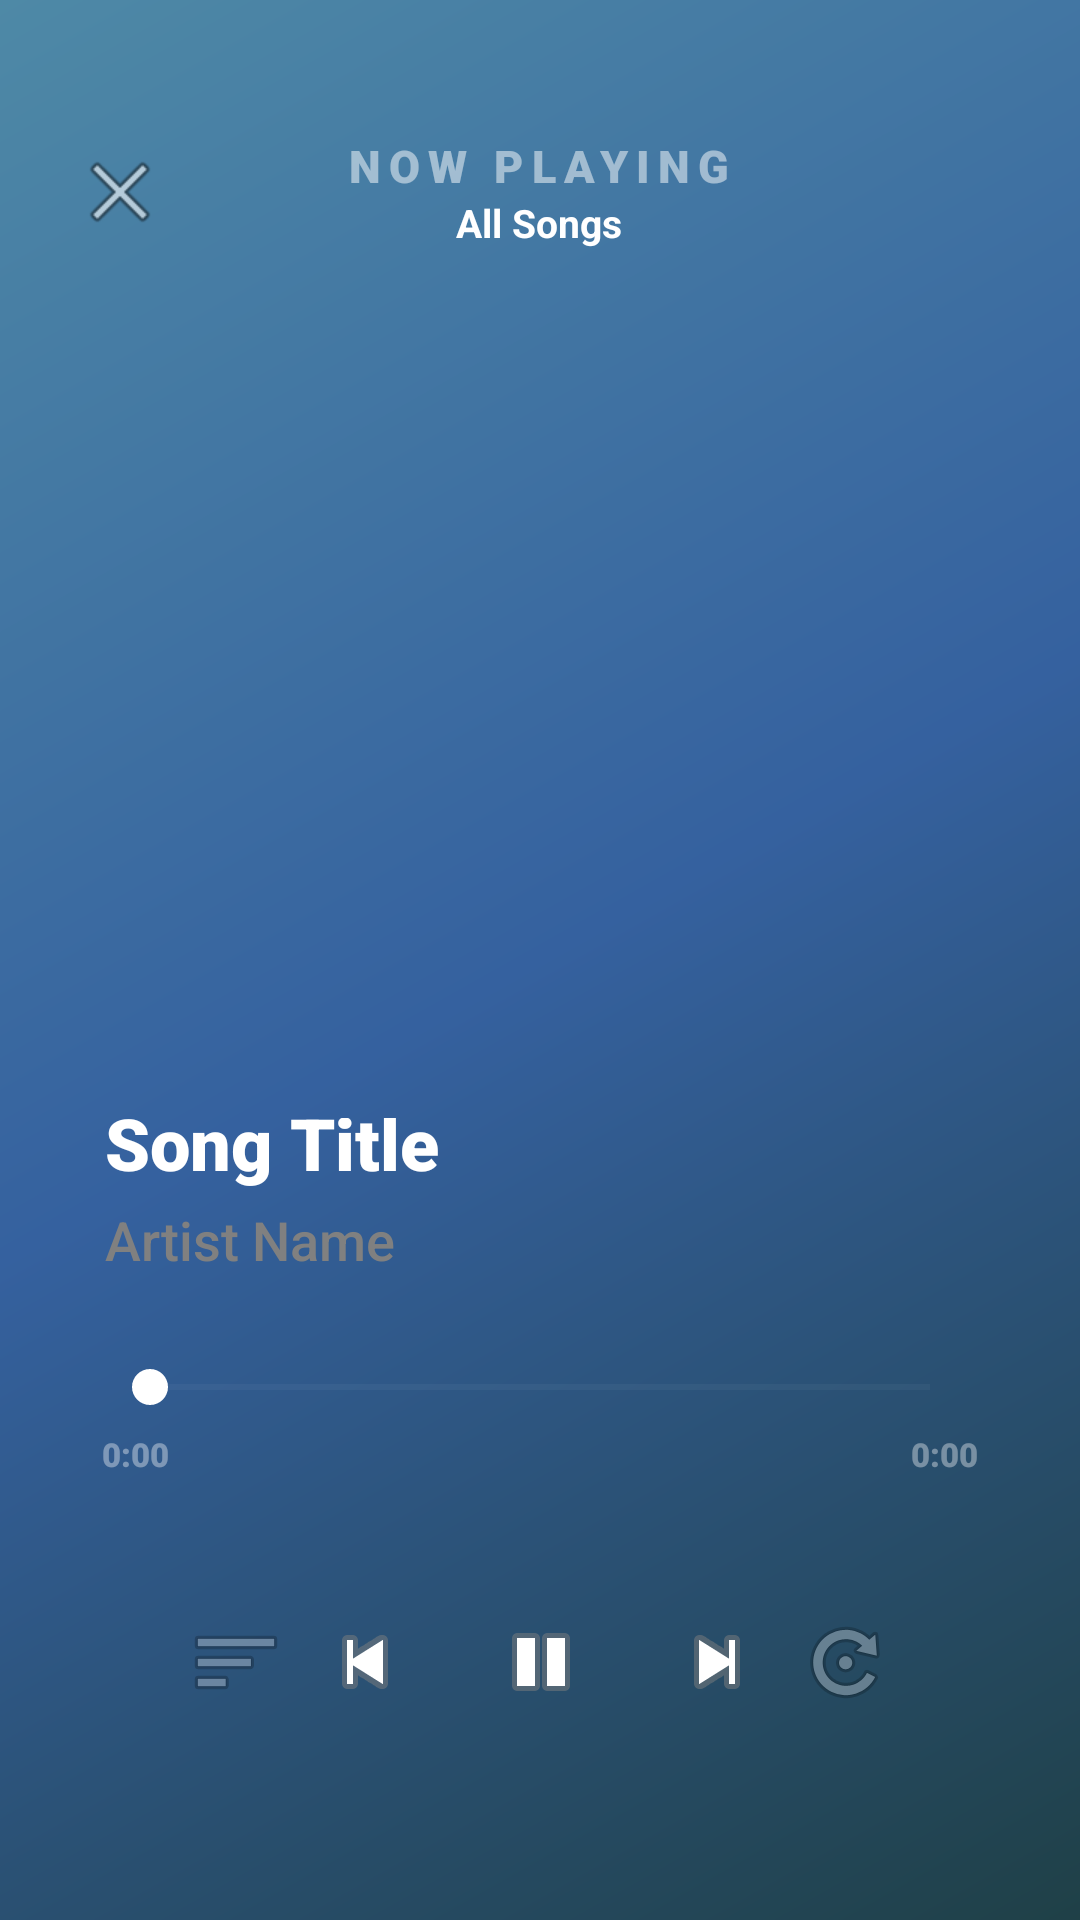

Where to tap for icons on this 1080x1920 app screen, as (x=x, y=y):
Close player: (x=120, y=192)
Next: (x=717, y=1662)
Play or Pause: (x=541, y=1662)
Previous: (x=365, y=1662)
Repeat: (x=845, y=1663)
